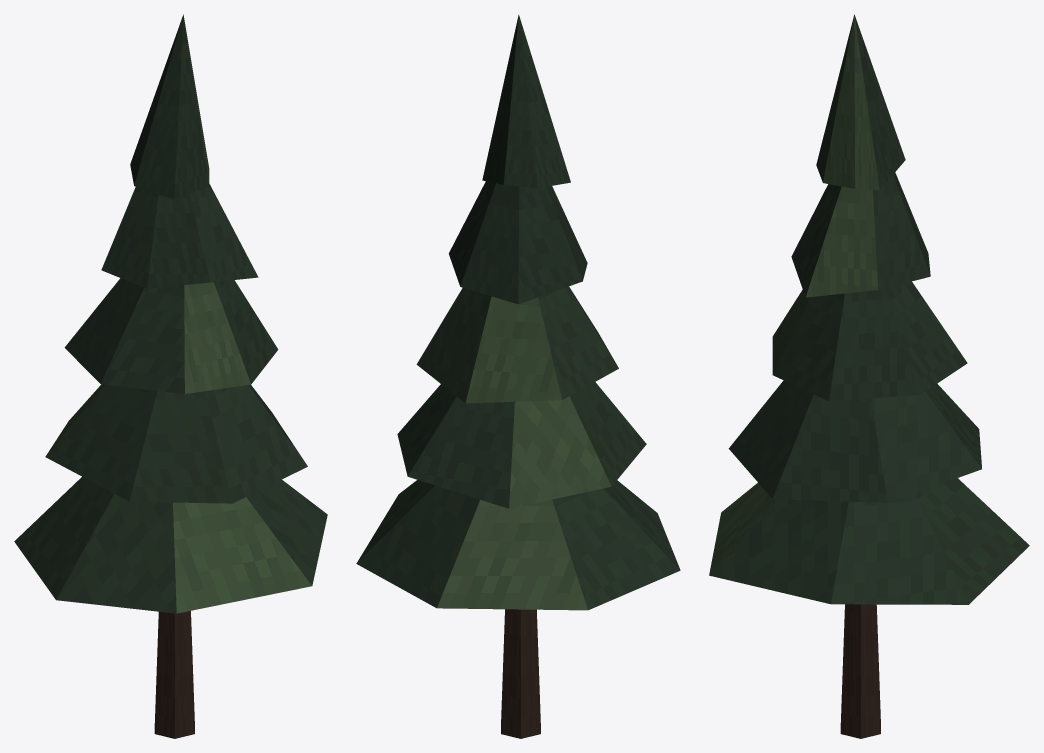
File: tree_pine_tall.glb
The picture shows the model from 3 angles, left to right: view 1: azimuth 30°, elevation 25°; view 2: azimuth 150°, elevation 25°; view 3: azimuth 270°, elevation 25°; orthographic projection.
Visible parts, largest first — view 1: tree_pine_tall; view 2: tree_pine_tall; view 3: tree_pine_tall.
Part boxes in pixels (bbox=[...]): tree_pine_tall: bbox=[14, 14, 327, 738]; tree_pine_tall: bbox=[356, 14, 680, 738]; tree_pine_tall: bbox=[709, 14, 1029, 738].
Size of the model in its own units: 3.6 by 8.86 by 3.59.
1 material, 1 textured.
